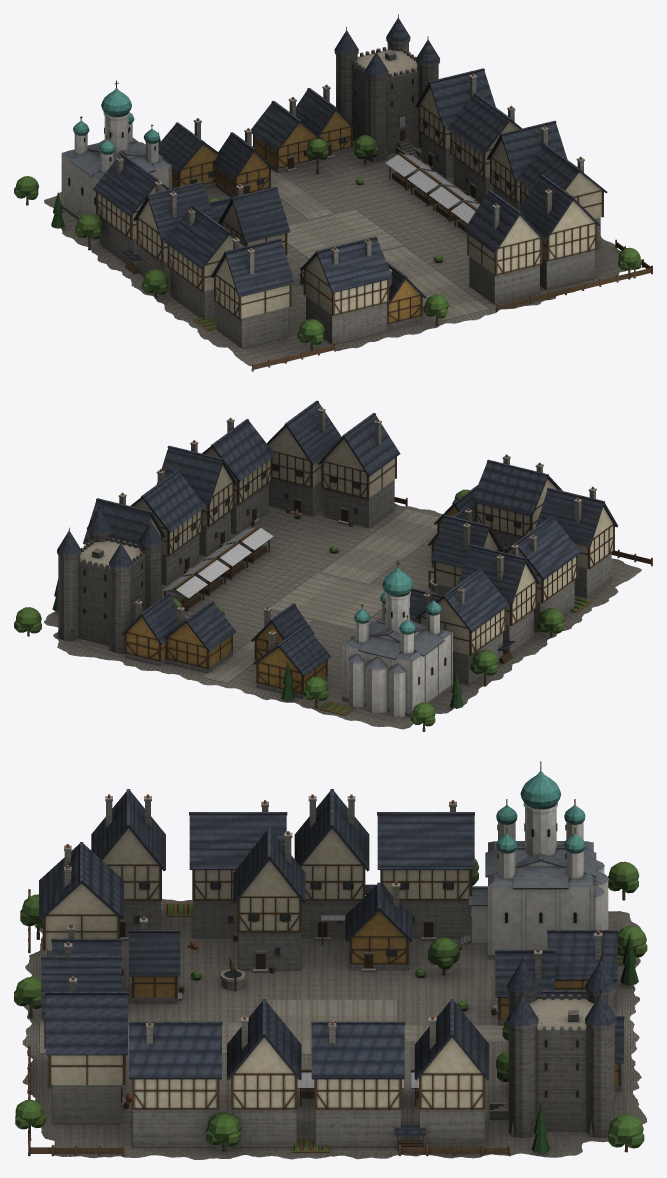
Rendered from kingdoms-town-medium-a-easteurope.glb.
3 renders of one model, top to bottom at view 1: azimuth 30°, elevation 25°; view 2: azimuth 150°, elevation 25°; view 3: azimuth 270°, elevation 25°, orthographic. The views are drawn at different scales.
Visible parts, largest first — view 1: LOD0; view 2: LOD0; view 3: LOD0.
Boxes of the visible parts, x1,y1,x2,y2 form: LOD0: (14, 14, 652, 371); LOD0: (14, 400, 652, 731); LOD0: (14, 761, 647, 1159).
Size of what is drawn, in the model's own units: 6.09 by 1.88 by 6.12.
3 materials, 3 textured.
